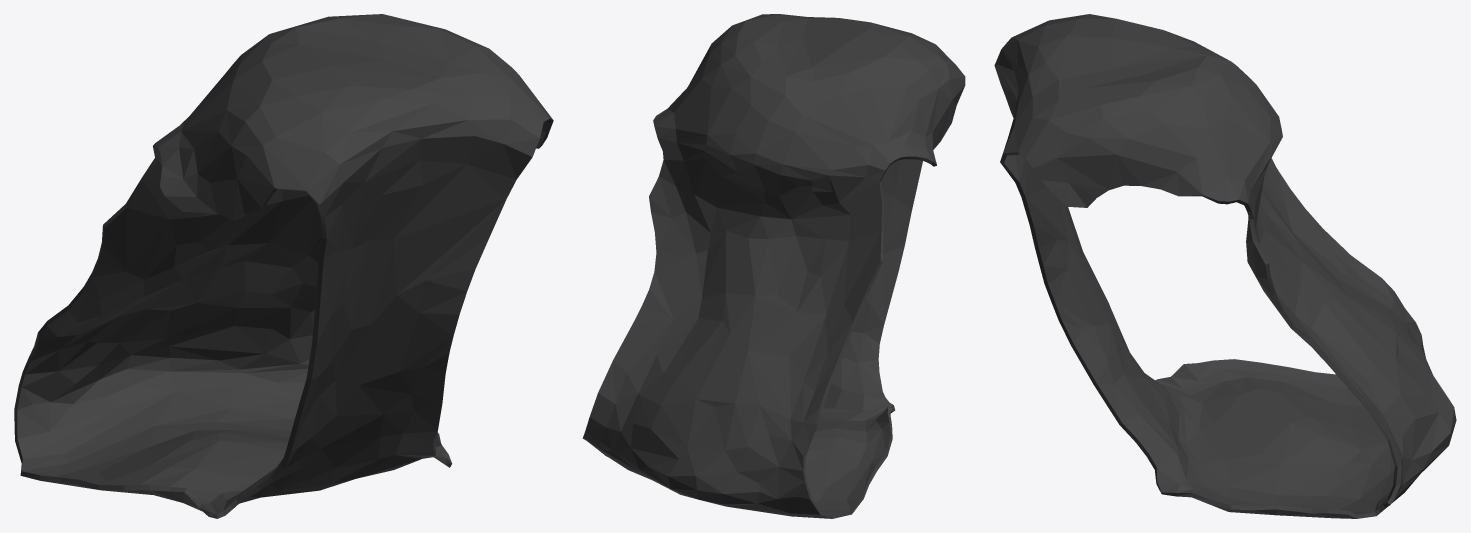
The model's file is c6_body.glb.
The picture shows the model from 3 angles, left to right: view 1: azimuth 30°, elevation 25°; view 2: azimuth 150°, elevation 25°; view 3: azimuth 270°, elevation 25°; orthographic projection. The views are drawn at different scales.
Visible parts, largest first — view 1: c6_body; view 2: c6_body; view 3: c6_body.
Boxes of the visible parts, x1,y1,x2,y2 form: c6_body: [14, 14, 553, 518]; c6_body: [582, 14, 965, 518]; c6_body: [994, 14, 1456, 518].
Size of the model in its own units: 17.98 by 24.23 by 24.14.
1 material, 1 textured.
